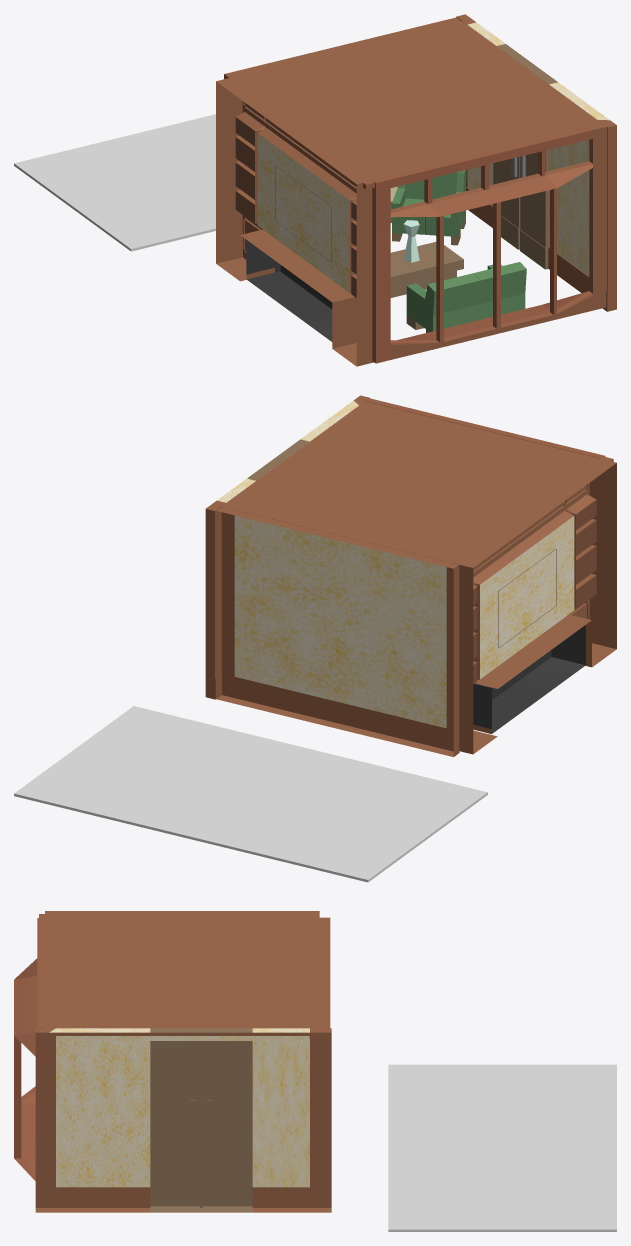
The model's file is Room2.fbx.
The picture shows the model from 3 angles, top to bottom: view 1: azimuth 30°, elevation 25°; view 2: azimuth 150°, elevation 25°; view 3: azimuth 270°, elevation 25°; orthographic projection. The views are drawn at different scales.
Visible parts, largest first — view 1: Wall, Cube; view 2: Wall, Cube; view 3: Wall, Cube.
Boxes of the visible parts, left/top/right/bottom form: Wall: left=216, top=14, right=616, bottom=366; Cube: left=14, top=114, right=215, bottom=251; Wall: left=205, top=395, right=616, bottom=756; Cube: left=14, top=706, right=487, bottom=882; Wall: left=14, top=911, right=331, bottom=1212; Cube: left=388, top=1064, right=616, bottom=1231.
Bounding box in the file's own units: 1984 × 1010 × 3063.
Materials: 1 (1 with a texture image).
